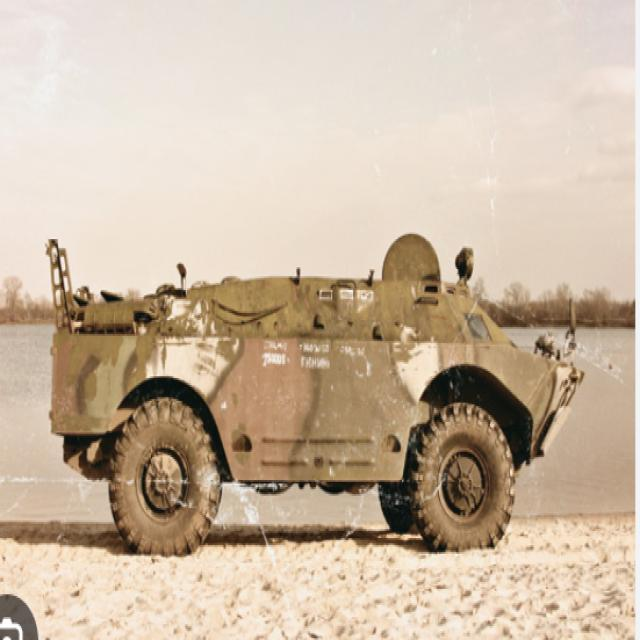MIL_APC: (27, 245, 584, 563)
